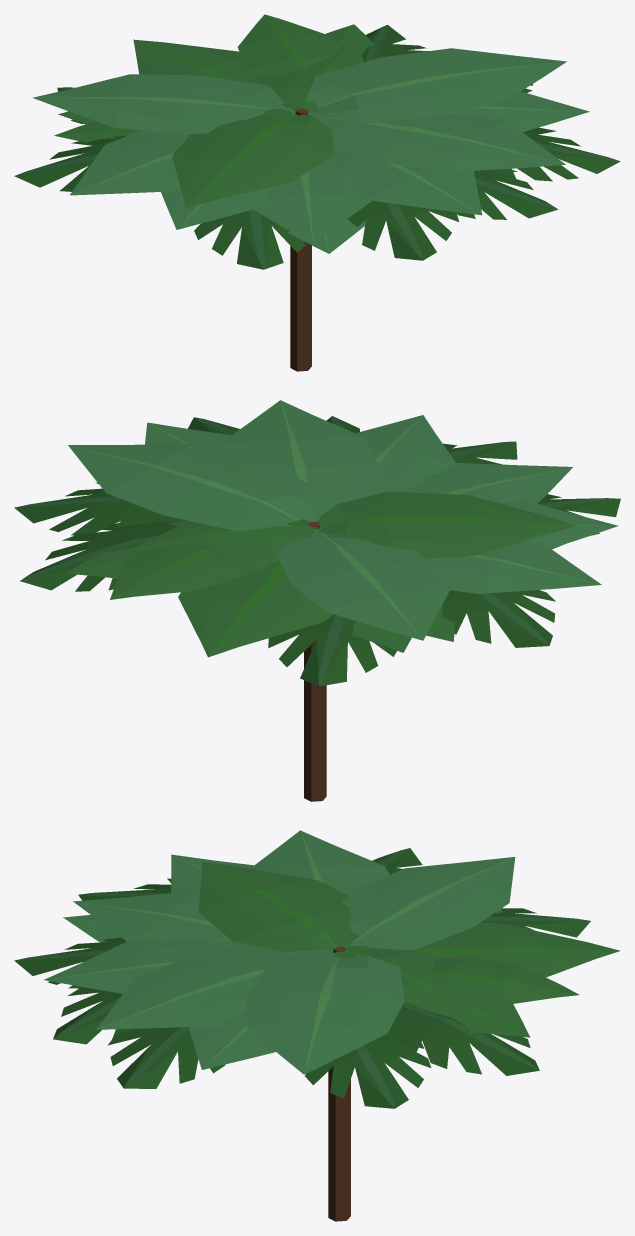
The model's file is tree3.fbx.
3 views of the same model, one above another, from view 1: azimuth 30°, elevation 25°; view 2: azimuth 150°, elevation 25°; view 3: azimuth 270°, elevation 25° (orthographic). The views are drawn at different scales.
Visible parts, largest first — view 1: tree3; view 2: tree3; view 3: tree3.
Boxes of the visible parts, left/top/right/bottom form: tree3: left=14, top=14, right=620, bottom=371; tree3: left=14, top=400, right=620, bottom=801; tree3: left=14, top=830, right=620, bottom=1221.
Bounding box in the file's own units: 689 × 341 × 678.
